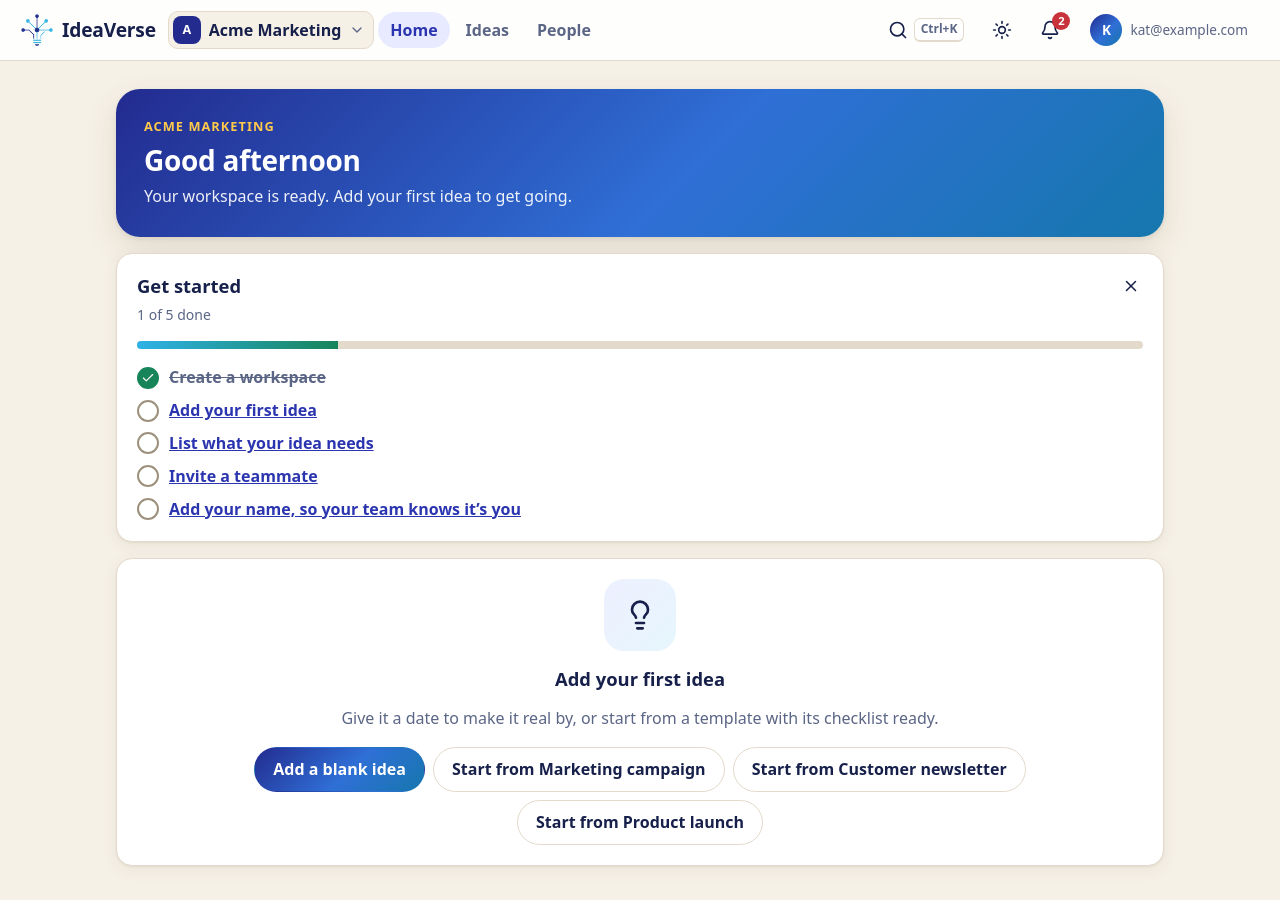
Test: Notifications › names the component a notification is about in the drop-down
Click the button named "Notifications, 2 unread".
click(1050, 30)  # box [1030,10,1070,50]
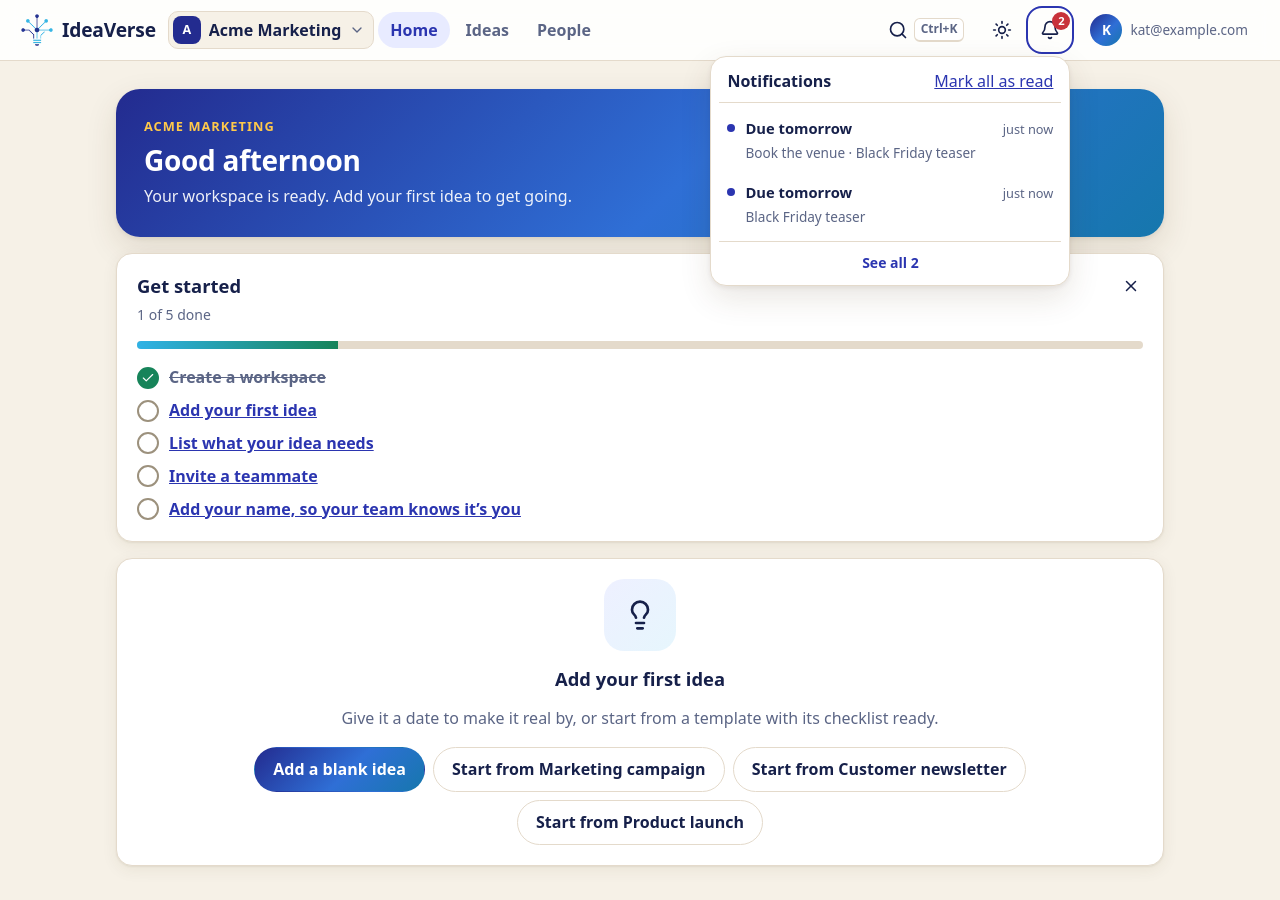
expect the link "Due tomorrow Book the venue · Black Friday teaser just now" is shown: met, box [719,109,1061,171]
